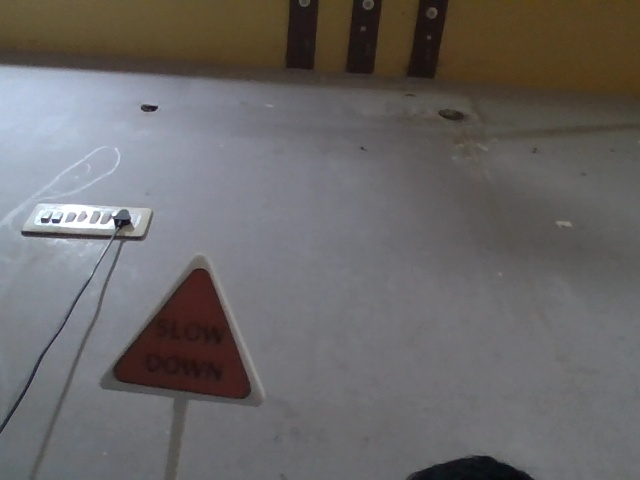slowdown: (75, 258, 268, 410)
